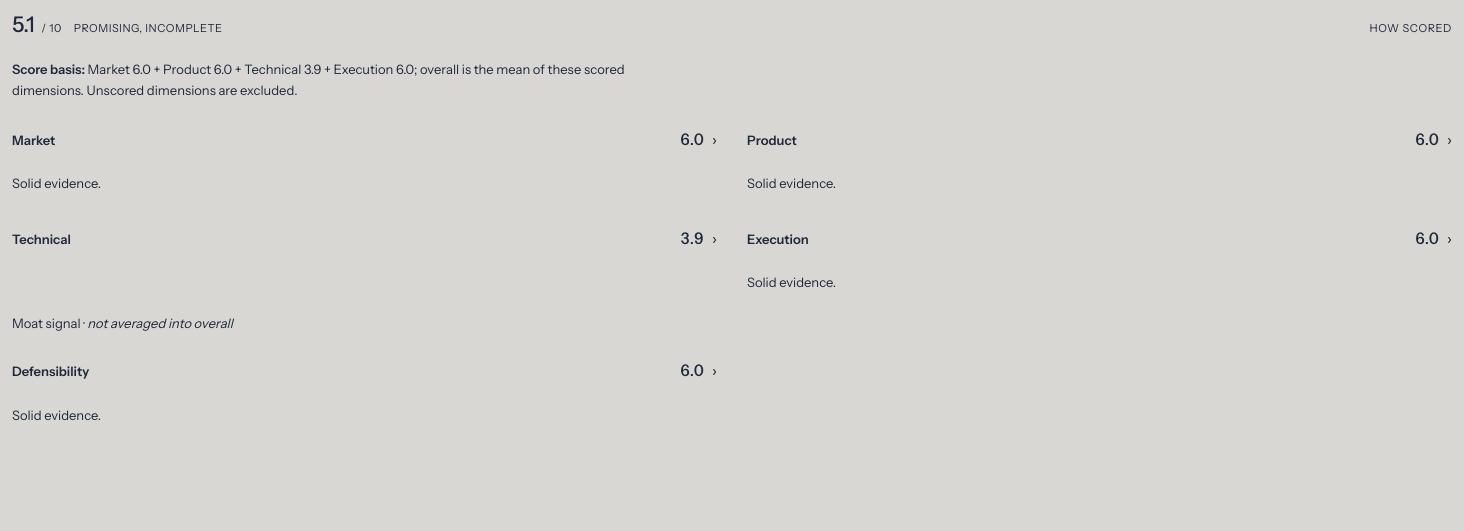
AssessmentScorecard persona-divergence flag › flags divergence even when the legacy presentation overlay is active
Click the button "Technical 3.9 ›" at (41, 239), box [12,213,717,264]
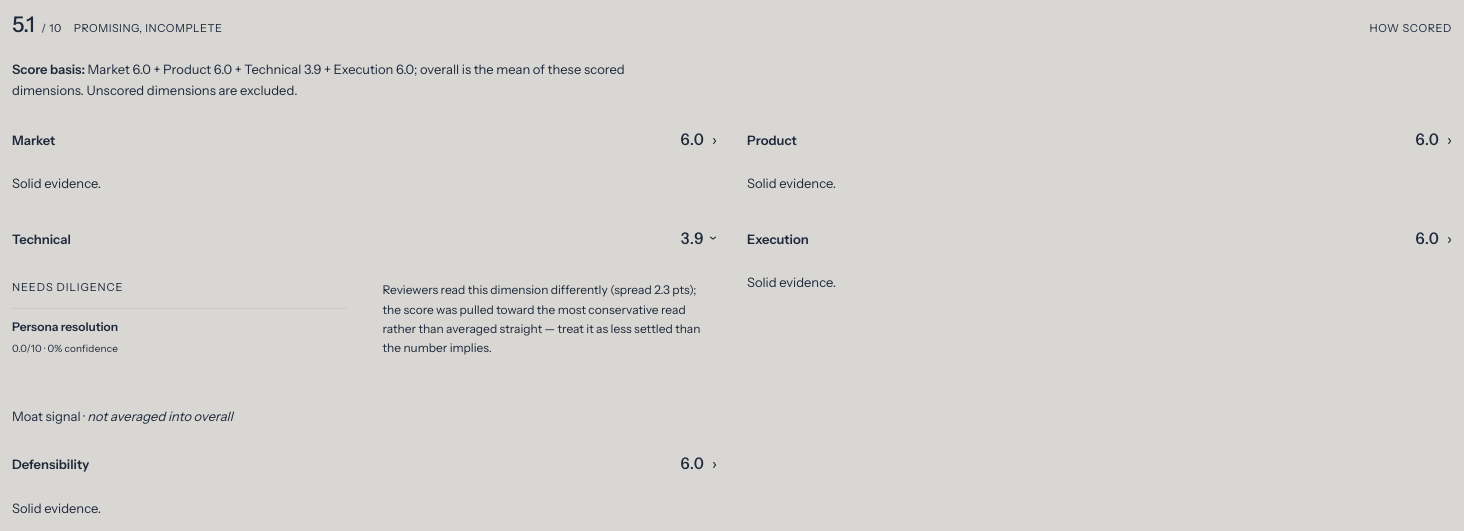
Result: the text "Reviewers read this dimension differently" is shown at [382,282,608,298]
